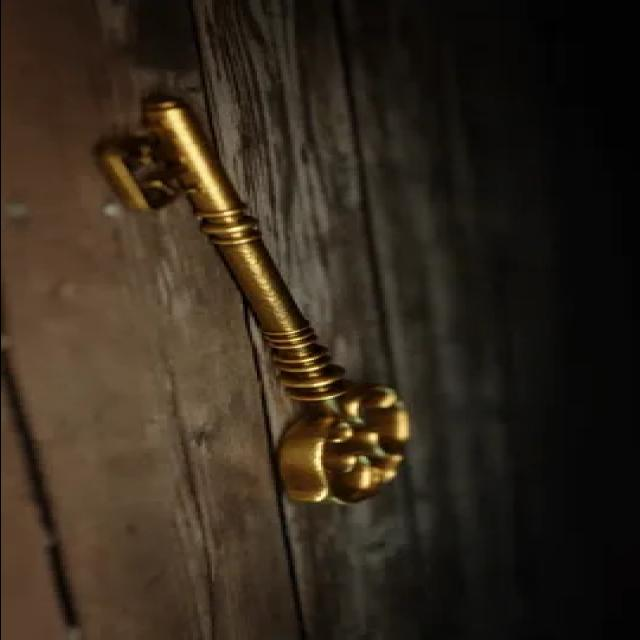key: (94, 83, 430, 527)
